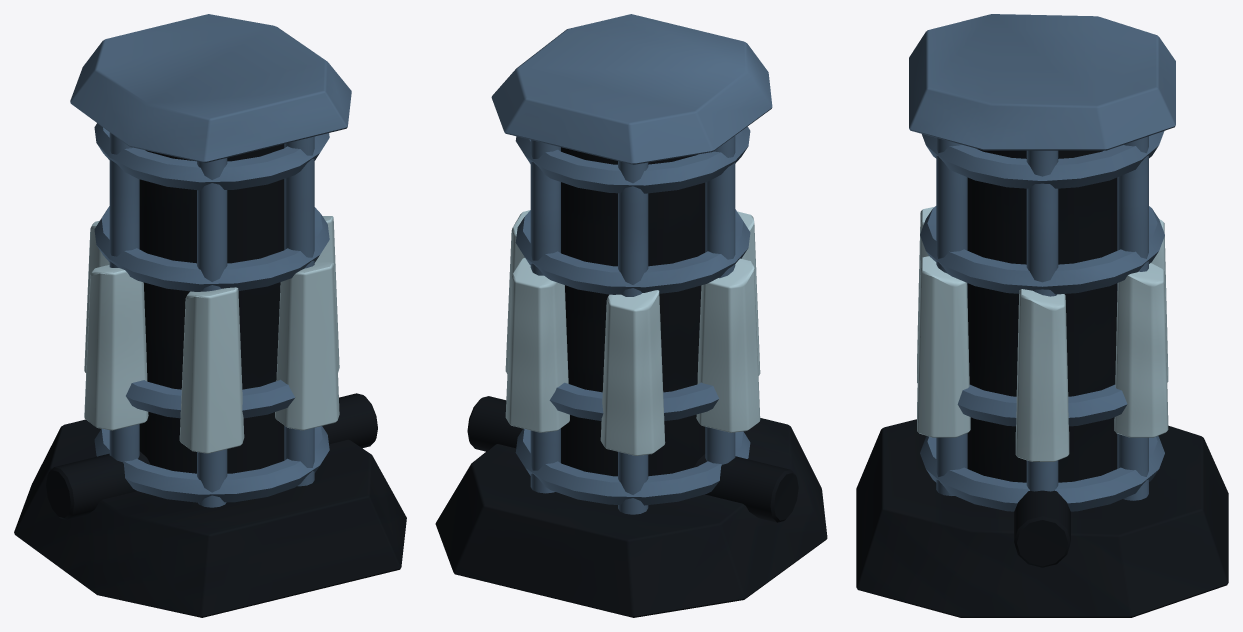
Rendered from Hero_Reactor.fbx.
The picture shows the model from 3 angles, left to right: view 1: azimuth 30°, elevation 25°; view 2: azimuth 150°, elevation 25°; view 3: azimuth 270°, elevation 25°; orthographic projection. The views are drawn at different scales.
Visible parts, largest first — view 1: Hero_Reactor; view 2: Hero_Reactor; view 3: Hero_Reactor.
Boxes of the visible parts, x1,y1,x2,y2 form: Hero_Reactor: (14,14,406,617); Hero_Reactor: (435,14,827,617); Hero_Reactor: (856,14,1228,617).
Bounding box in the file's own units: 2.49 × 3.55 × 2.49.
